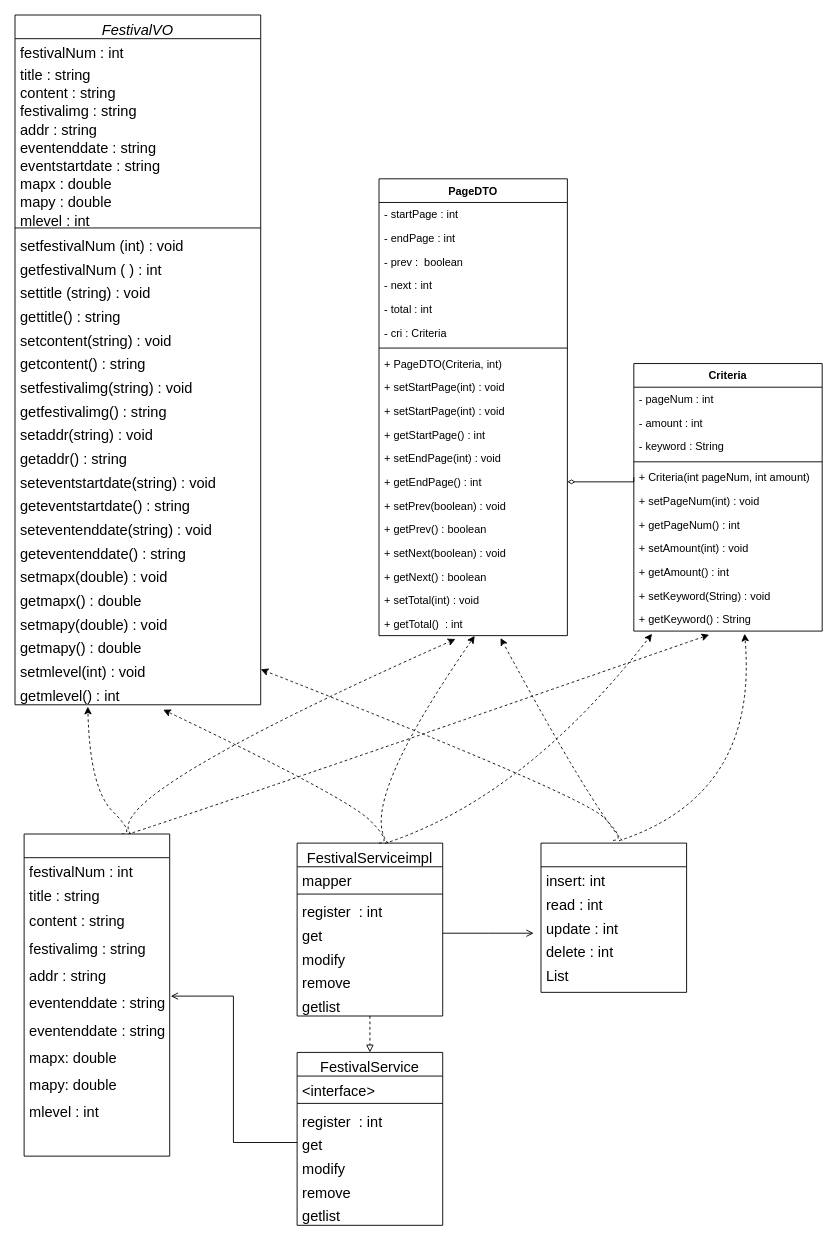
Some shapes in this 837 by 1240 pixel diagram are drawn without their labels. The shapes that lost their labels are listed below. From the top down, each one's box as (x1, y1, x2, y2) in pixels, then its label:
(540, 842, 687, 992): Festivalmapper
(23, 833, 170, 1156): FestivalController
